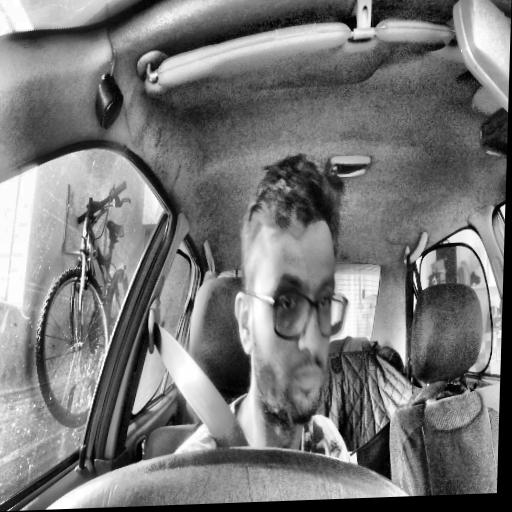awake: (229, 154, 352, 433)
